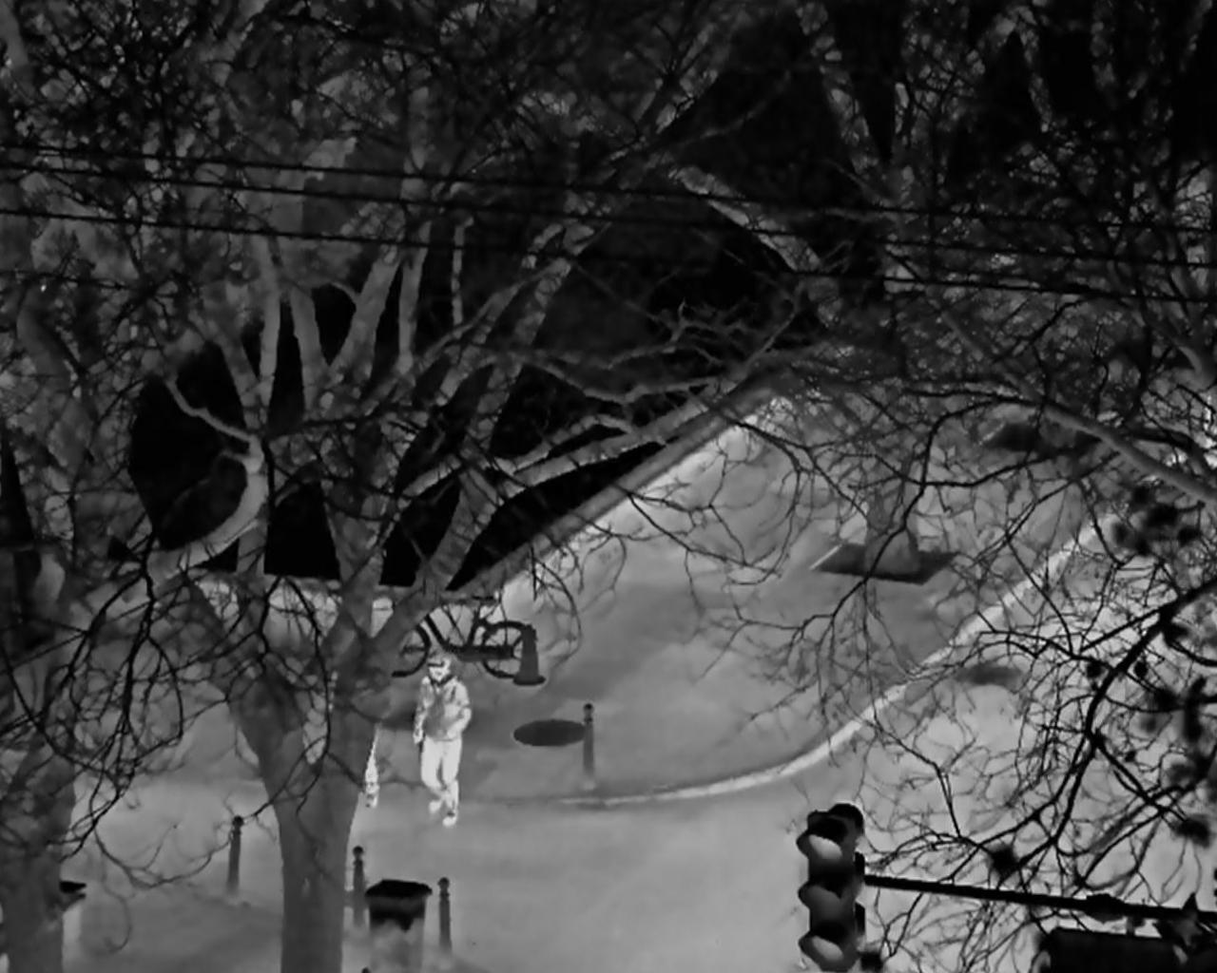person: (412, 652, 472, 830)
